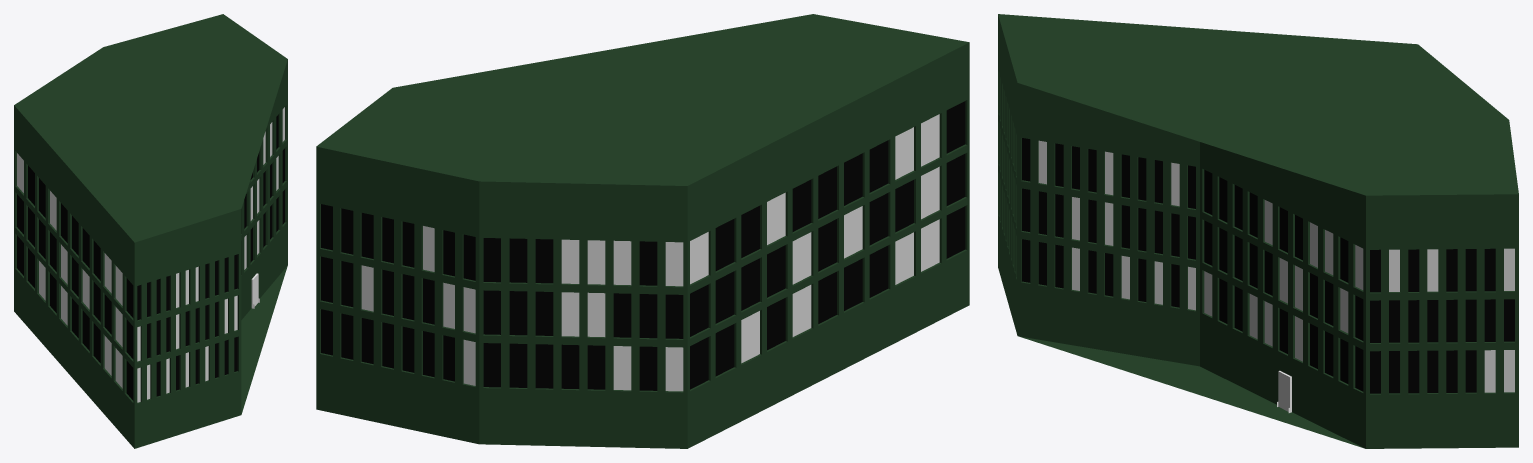
File: ArcadiumComplexIII.fbx
3 renders of one model, left to right at view 1: azimuth 30°, elevation 25°; view 2: azimuth 150°, elevation 25°; view 3: azimuth 270°, elevation 25°, orthographic. The views are drawn at different scales.
Visible parts, largest first — view 1: ArcadiumComplexIII; view 2: ArcadiumComplexIII; view 3: ArcadiumComplexIII, CTRL_Hole.002.
Part boxes in pixels (x1,y1,x2,y2): ArcadiumComplexIII: (14,14,287,448); ArcadiumComplexIII: (316,14,969,448); ArcadiumComplexIII: (998,14,1518,448); CTRL_Hole.002: (1278,371,1291,412).
Size of the model in its own units: 2306 by 1509 by 2796.
